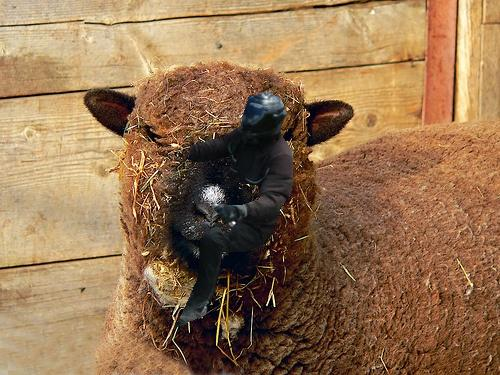tampered: (176, 92, 293, 327)
